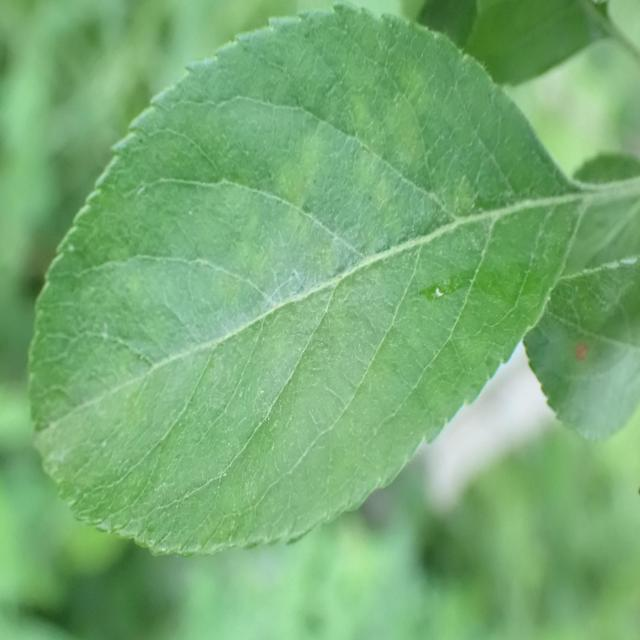scab: (36, 132, 523, 437)
